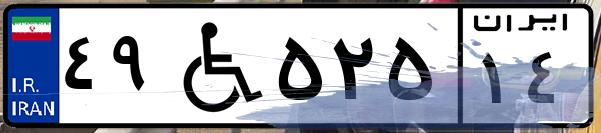1: (475, 38, 525, 113)
2: (330, 28, 385, 110)
4: (57, 26, 110, 100), (525, 38, 570, 115)
5: (270, 28, 330, 110), (385, 28, 445, 110)
9: (110, 28, 158, 98)
ژ (معلولین و جانبازان): (158, 12, 270, 120)
